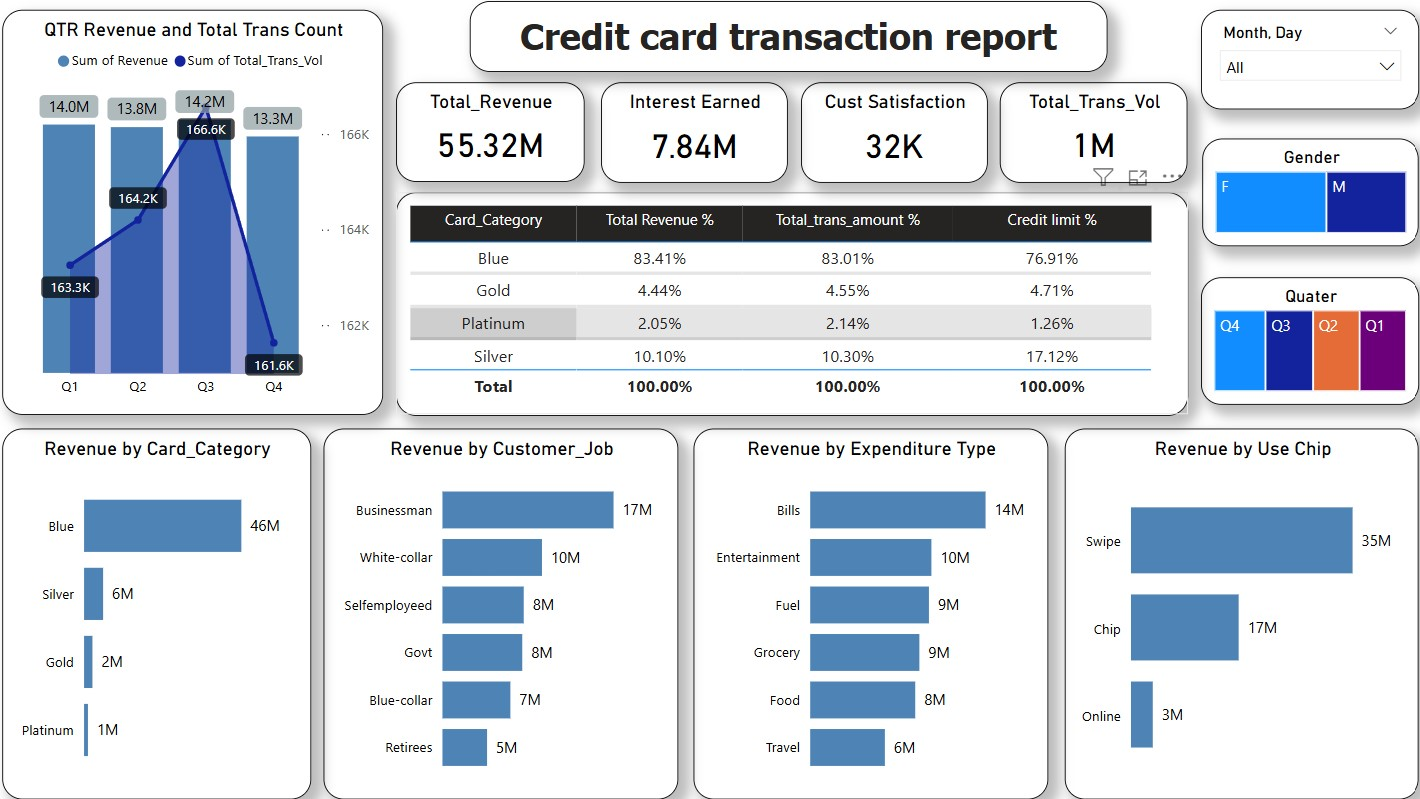

Layout of this report page (visuals, bound fields, positions):
{"tool":"powerbi","page":{"name":"CC_transaction","canvas":[1280,720],"ordinal":0},"visuals":[{"type":"lineStackedColumnComboChart","title":"QTR Revenue and Total Trans Count","fields":{"Y":["Sum(Public card&cust_detail.Revenue)"],"Y2":["Sum(Public card&cust_detail.Total_Trans_Vol)"],"Category":["Public card&cust_detail.Qtr"]},"box":[10,16.7,339.5,360.7],"z":0},{"type":"textbox","box":[426.3,9,567.7,63.5],"z":1000},{"type":"barChart","title":"Revenue by Expenditure Type","fields":{"Y":["Sum(Public card&cust_detail.Revenue)"],"Category":["Public card&cust_detail.Exp Type"]},"box":[625.6,389.6,316.1,330.6],"z":2000},{"type":"barChart","title":"Revenue by Customer_Job","fields":{"Category":["Public card&cust_detail.Customer_Job"],"Y":["Sum(Public card&cust_detail.Revenue)"]},"box":[296.1,389.6,316.1,330.6],"z":3000},{"type":"barChart","title":"Revenue by Use Chip","fields":{"Y":["Sum(Public card&cust_detail.Revenue)"],"Category":["Public card&cust_detail.Use Chip"]},"box":[956.2,389.6,316.1,330.6],"z":4000},{"type":"barChart","title":"Revenue by Card_Category","fields":{"Y":["Sum(Public card&cust_detail.Revenue)"],"Category":["Public card&cust_detail.Card_Category"]},"box":[10,389.6,275,330.6],"z":5000},{"type":"tableEx","fields":{"Values":["Public card&cust_detail.Card_Category","Sum(Public card&cust_detail.Revenue)","Sum(Public card&cust_detail.Total_Trans_Amt)","Sum(Public card&cust_detail.Credit_Limit)"]},"box":[360.5,179.1,705.8,198.8],"z":6000},{"type":"card","title":"Total_Revenue","fields":{"Values":["Sum(Public card&cust_detail.Revenue)"]},"box":[361,81,168.1,89.1],"z":7000},{"type":"slicer","fields":{"Values":["Public card&cust_detail.Week_Start_Date.Variation.Date Hierarchy.Month","Public card&cust_detail.Week_Start_Date.Variation.Date Hierarchy.Day"]},"box":[1077.6,16.7,194.8,89.1],"z":8000},{"type":"card","title":"Interest Earned","fields":{"Values":["Sum(Public card&cust_detail.Interest_Earned)"]},"box":[543,81.4,166.3,89.5],"z":9000},{"type":"card","title":"Cust Satisfaction","fields":{"Values":["Sum(Public card&cust_detail.Cust_Satisfaction_Score)"]},"box":[720.9,81.4,166.3,89.5],"z":10000},{"type":"card","title":"Total_Trans_Vol","fields":{"Values":["Sum(Public card&cust_detail.Total_Trans_Vol)"]},"box":[898.8,81.4,167.4,89.5],"z":11000},{"type":"treemap","title":"Quater","fields":{"Group":["Public card&cust_detail.Qtr"],"Values":["Sum(Public card&cust_detail.Client_Num)"]},"box":[1077.6,254.9,194.8,113.5],"z":12000},{"type":"treemap","title":"Gender","fields":{"Group":["Public card&cust_detail.Gender","Public card&cust_detail.Week_Start_Date.Variation.Date Hierarchy.Quarter"],"Values":["Sum(Public card&cust_detail.Client_Num)"]},"box":[1078.7,131.4,193.7,96],"z":13000}]}

Visuals, with their boxes in screenshot pixels (x1, y1, x2, y2), scaled from the page's 1280x720 canvas onto the 1420x799 screenshot:
"QTR Revenue and Total Trans Count" lineStackedColumnComboChart: [left=11, top=19, right=388, bottom=419]
textbox: [left=473, top=10, right=1103, bottom=80]
"Revenue by Expenditure Type" barChart: [left=694, top=432, right=1045, bottom=798]
"Revenue by Customer_Job" barChart: [left=328, top=432, right=679, bottom=798]
"Revenue by Use Chip" barChart: [left=1061, top=432, right=1411, bottom=798]
"Revenue by Card_Category" barChart: [left=11, top=432, right=316, bottom=798]
tableEx - Public card&cust_detail.Card_Category x Sum(Public card&cust_detail.Revenue): [left=400, top=199, right=1183, bottom=419]
"Total_Revenue" card: [left=400, top=90, right=587, bottom=189]
slicer - Public card&cust_detail.Week_Start_Date.Variation.Date Hierarchy.Month x Public card&cust_detail.Week_Start_Date.Variation.Date Hierarchy.Day: [left=1195, top=19, right=1412, bottom=117]
"Interest Earned" card: [left=602, top=90, right=787, bottom=190]
"Cust Satisfaction" card: [left=800, top=90, right=984, bottom=190]
"Total_Trans_Vol" card: [left=997, top=90, right=1183, bottom=190]
"Quater" treemap: [left=1195, top=283, right=1412, bottom=409]
"Gender" treemap: [left=1197, top=146, right=1412, bottom=252]
